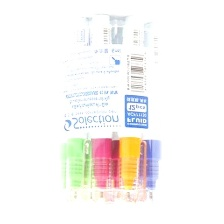book: (51, 7, 169, 212)
correction_fluid: (116, 13, 149, 204), (135, 21, 165, 208), (88, 13, 116, 208), (63, 16, 91, 205)
